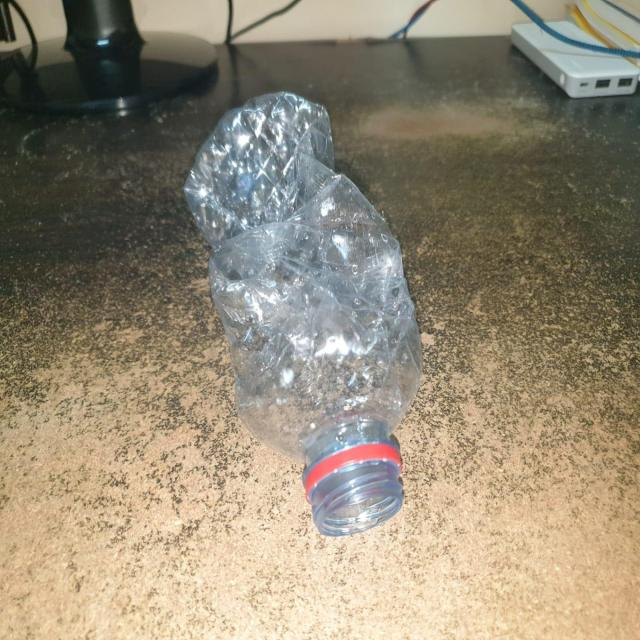bottle: (185, 94, 427, 543)
